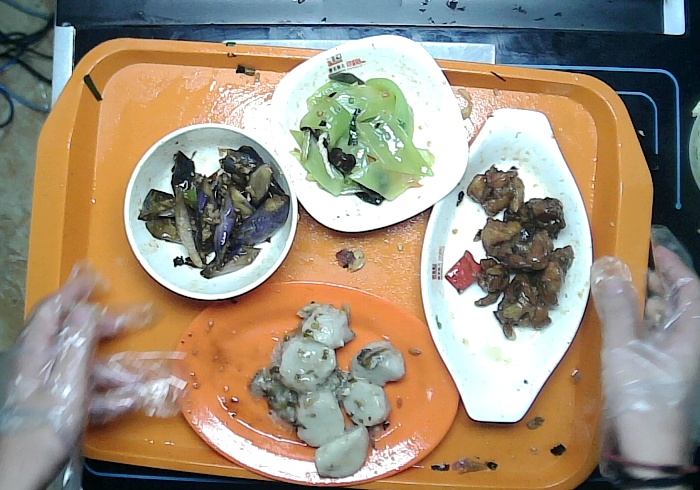NLDX-Bai_Se_Xiao_Fang_Die: (270, 36, 468, 234)
NLDX-Fan_Wan: (124, 121, 297, 300)
NLDX-Ju_Se_Pan: (171, 281, 460, 487)
NLDX-Yu_Pan: (420, 106, 594, 423)
